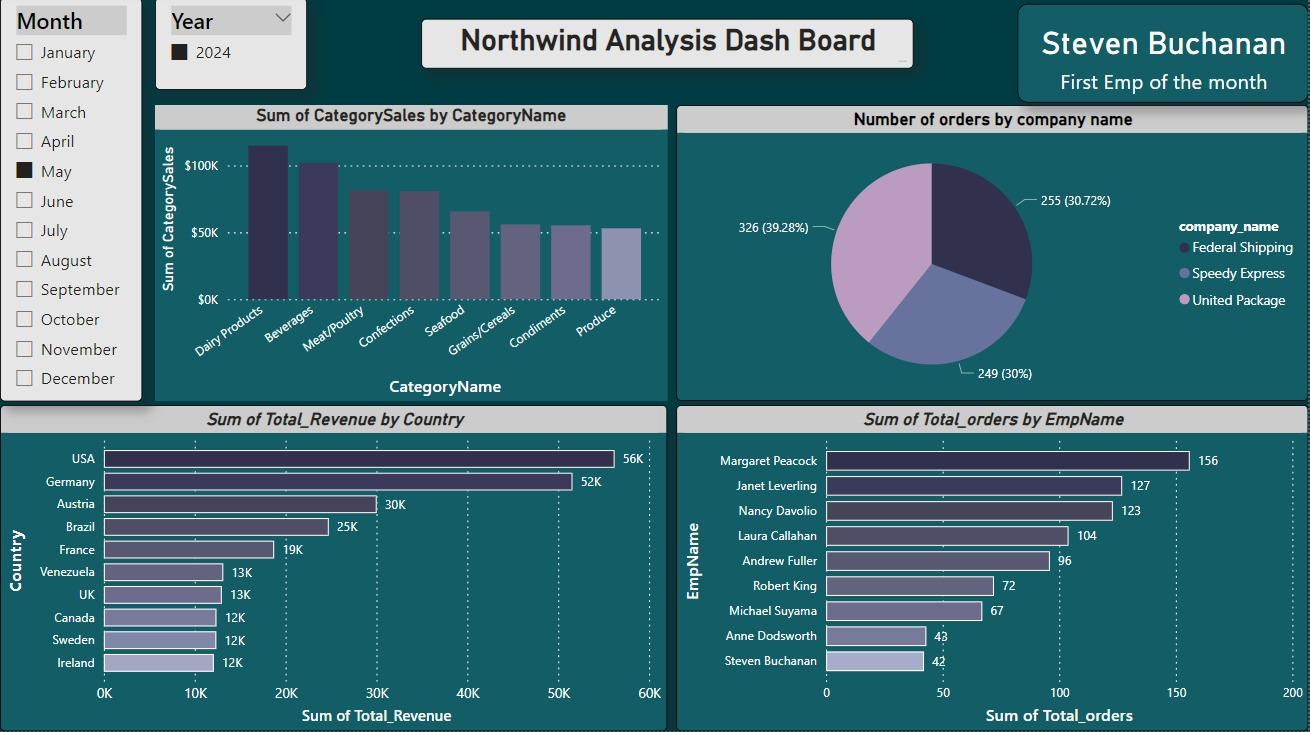

The dashboard page shown, as its layout file describes it:
{"tool":"powerbi","page":{"name":"Page 1","canvas":[1280,720],"ordinal":0},"visuals":[{"type":"barChart","fields":{"Category":["Revenue each country.Country"],"Y":["Sum(Revenue each country.Total_Revenue)"]},"box":[0,401.3,640.5,319],"z":0},{"type":"pieChart","title":"Number of orders by company name","fields":{"Y":["Sum(Query1.Number_of_orders)"],"Series":["Query1.company_name"]},"box":[640.7,80.2,639.5,317.3],"z":1000},{"type":"barChart","fields":{"Category":["No orders made by sale emp.EmpName"],"Y":["Sum(No orders made by sale emp.Total_orders)"]},"box":[639.2,401.3,640.5,319],"z":2000},{"type":"slicer","fields":{"Values":["Query1.Date.Variation.Date Hierarchy.Month"]},"box":[0,2.5,150.6,394.9],"z":3000},{"type":"slicer","fields":{"Values":["Query1.Date.Variation.Date Hierarchy.Year"]},"box":[1131.1,0,149.2,78.3],"z":4000},{"type":"card","fields":{"Values":["Min(Emp of the month.EmpName)"]},"box":[150.4,2.4,489.1,105.2],"z":5000},{"type":"textbox","title":"Northwind Analysis Dash Board","box":[639.5,14.7,481.8,63.6],"z":6000},{"type":"clusteredColumnChart","fields":{"Category":["Category Sales for 1997.CategoryName"],"Y":["Sum(Category Sales for 1997.CategorySales)"]},"box":[151,107,488,291],"z":7000}]}

Visuals, with their boxes in screenshot pixels (x1, y1, x2, y2), scaled from the page's 1280x720 canvas onto the 1310x732 screenshot:
barChart - Revenue each country.Country x Sum(Revenue each country.Total_Revenue): crop(0, 408, 656, 731)
"Number of orders by company name" pieChart: crop(656, 82, 1309, 404)
barChart - No orders made by sale emp.EmpName x Sum(No orders made by sale emp.Total_orders): crop(654, 408, 1309, 731)
slicer - Query1.Date.Variation.Date Hierarchy.Month: crop(0, 3, 154, 404)
slicer - Query1.Date.Variation.Date Hierarchy.Year: crop(1158, 0, 1309, 80)
card - Min(Emp of the month.EmpName): crop(154, 2, 654, 109)
"Northwind Analysis Dash Board" textbox: crop(654, 15, 1148, 80)
clusteredColumnChart - Category Sales for 1997.CategoryName x Sum(Category Sales for 1997.CategorySales): crop(155, 109, 654, 405)
